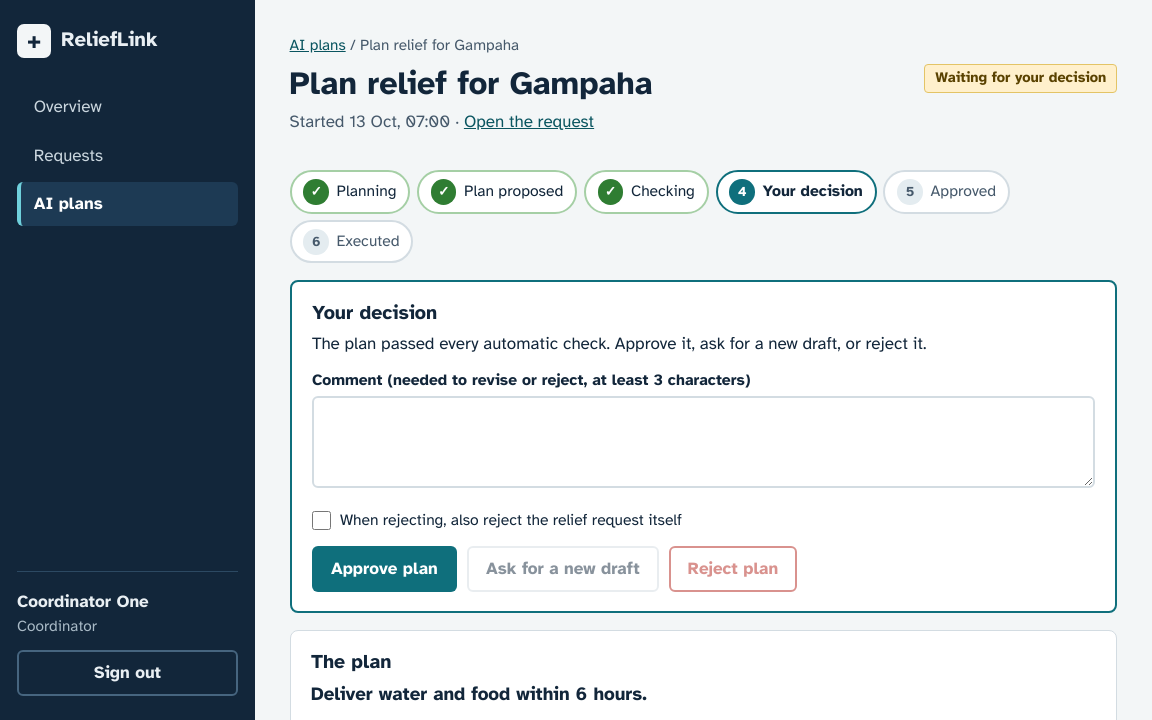
Workflow detail: actions › revises only with a comment of 3 or more characters
This screenshot has width=1152, height=720.
Type "ab" into the text box labelled "Comment (needed to revise or reject, at least 3 characters)" at point(703, 442), box [312,396,1095,488]
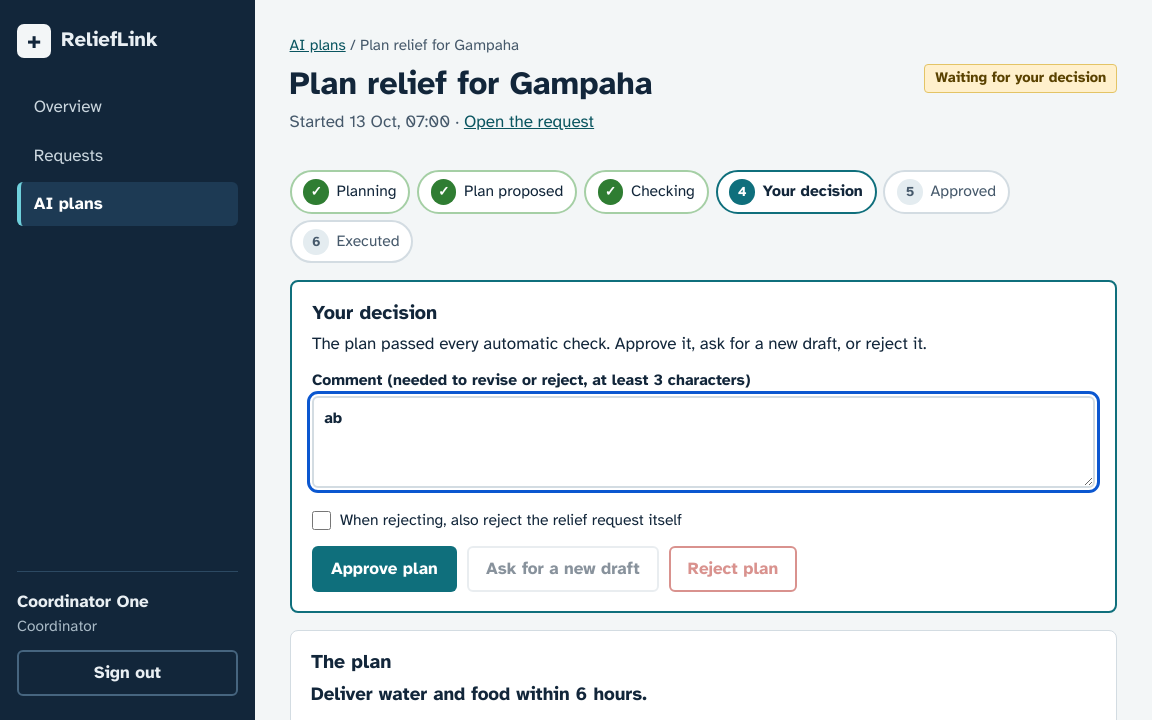
Expected: the button "Ask for a new draft" is disabled, [467,546,659,592]
Type "c  " into the text box labelled "Comment (needed to revise or reject, at least 3 characters)" at point(703, 442), box [312,396,1095,488]
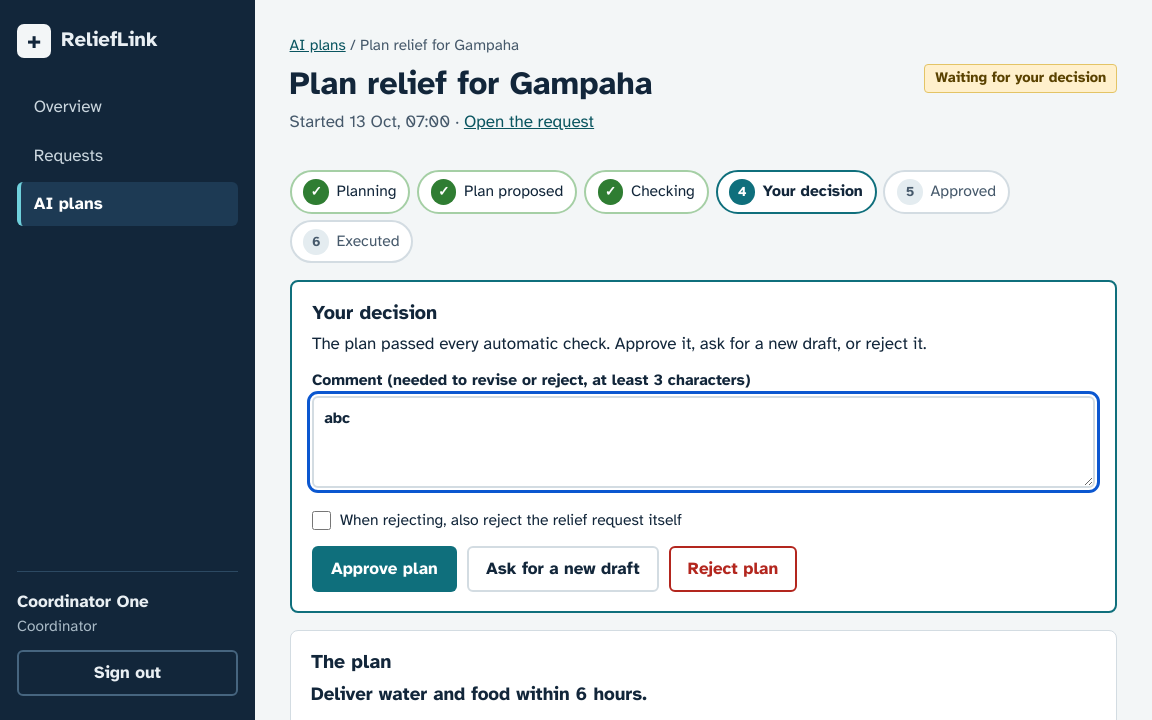
Expected: the button "Ask for a new draft" is enabled
Click the button "Ask for a new draft" at point(563, 569), box [467,546,659,592]
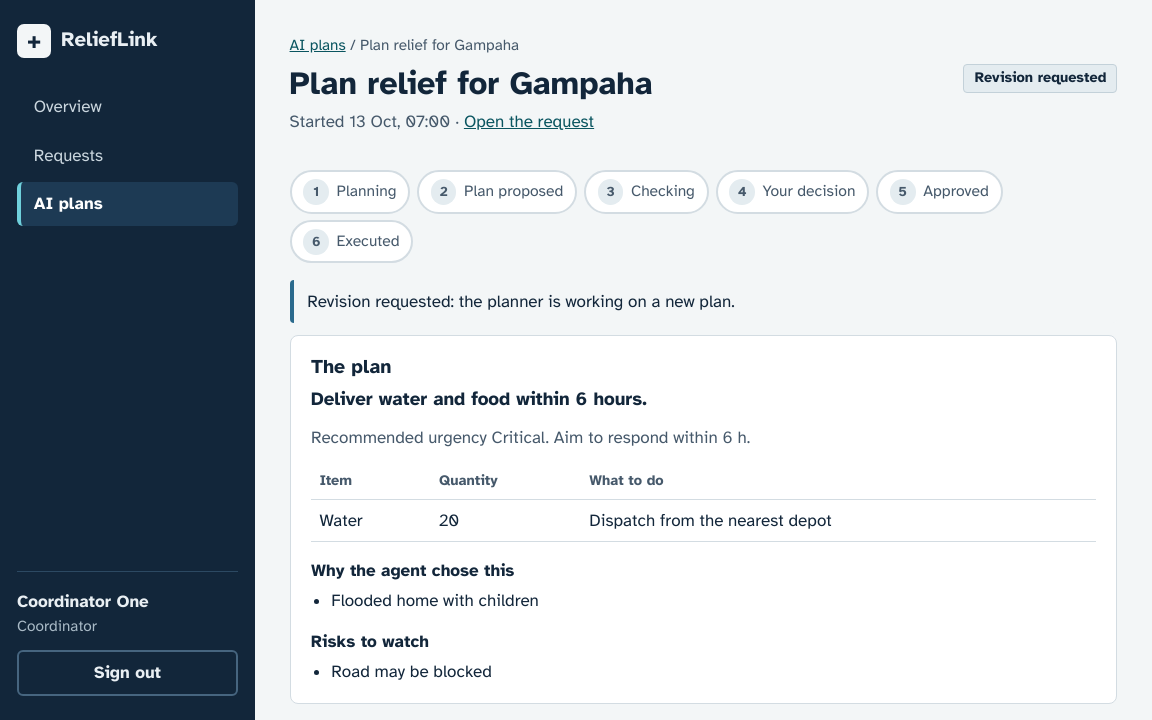
Expected: the text "Revision requested: the planner is working on a new plan." is shown, [290,280,1117,323]
